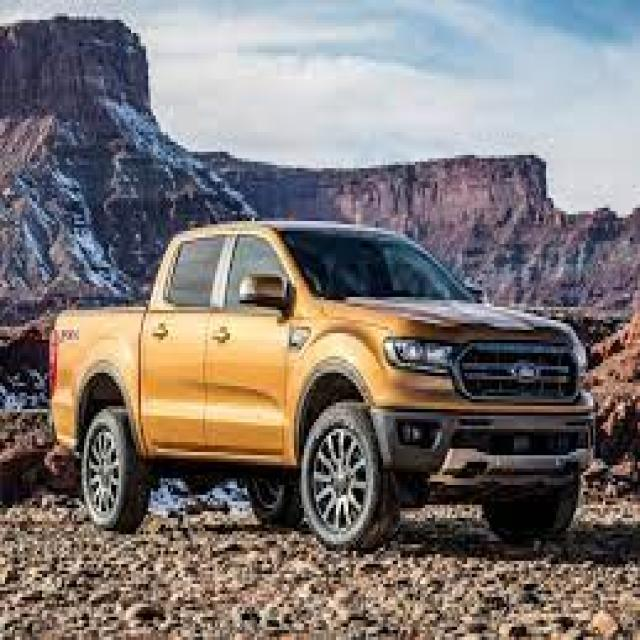Pickup Trucks: (47, 225, 598, 554)
